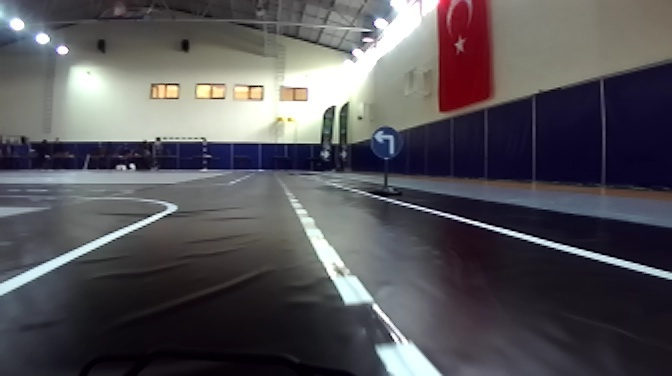sola_donus: (365, 127, 405, 162)
